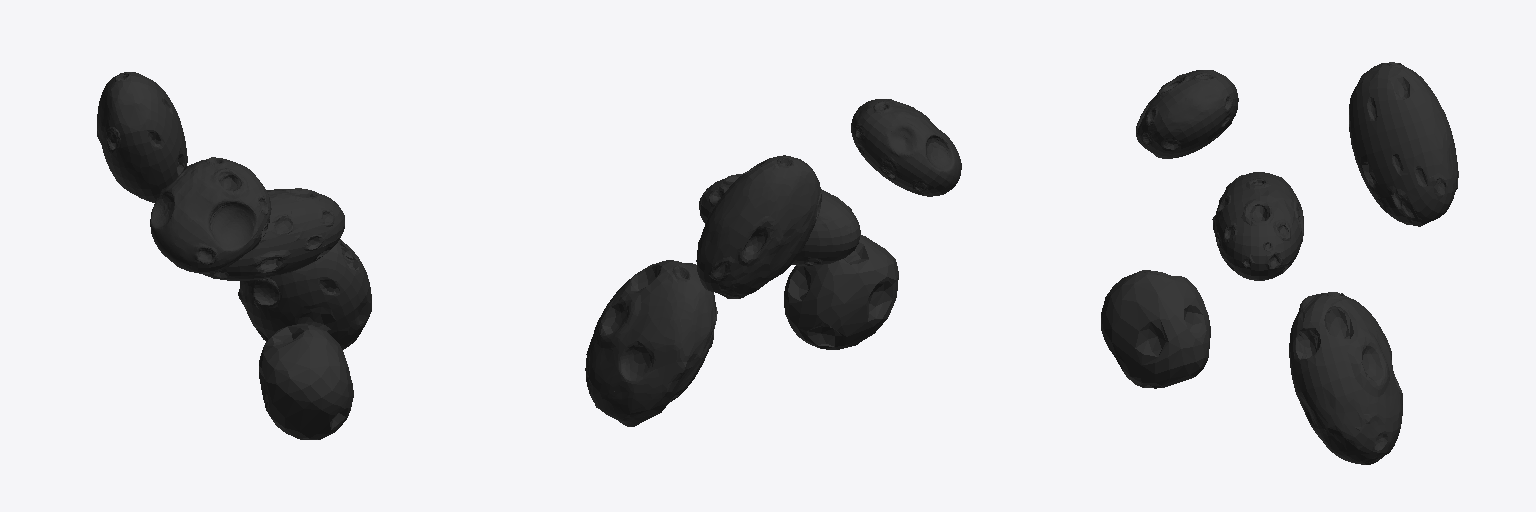
File: asteroids.obj
The picture shows the model from 3 angles: view 1: azimuth 30°, elevation 25°; view 2: azimuth 150°, elevation 25°; view 3: azimuth 270°, elevation 25°; orthographic projection.
Parts seen in each view (by area): view 1: Cube.002; view 2: Cube.002; view 3: Cube.002.
Part boxes in pixels (x1,y1,x2,y2): Cube.002: (97, 72, 371, 439); Cube.002: (585, 99, 961, 426); Cube.002: (1101, 62, 1458, 464).
Bounding box in the file's own units: 15.06 × 15.75 × 16.31.